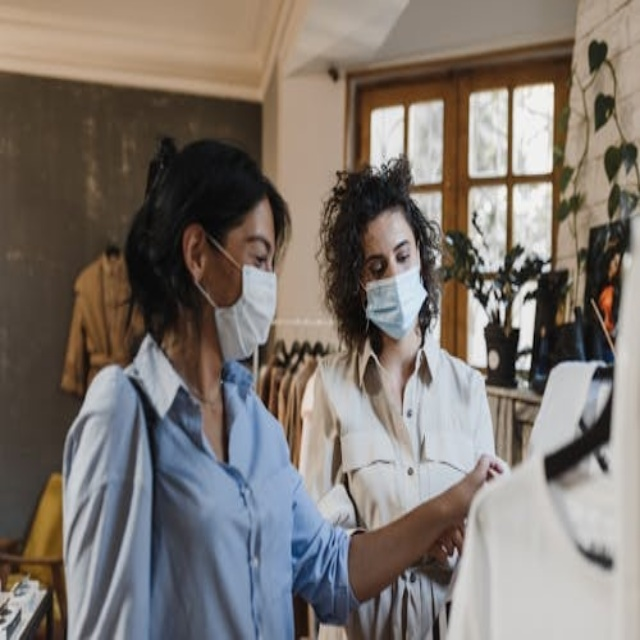Mascara: (199, 234, 275, 363), (361, 261, 429, 340)
Sin_gafas: (360, 234, 422, 278), (227, 226, 276, 268)
Sin_guantes: (442, 441, 517, 523)
